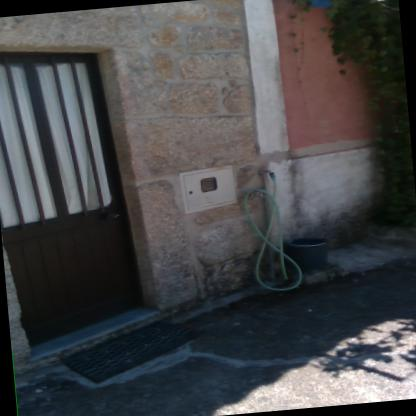closed: (0, 31, 153, 355)
